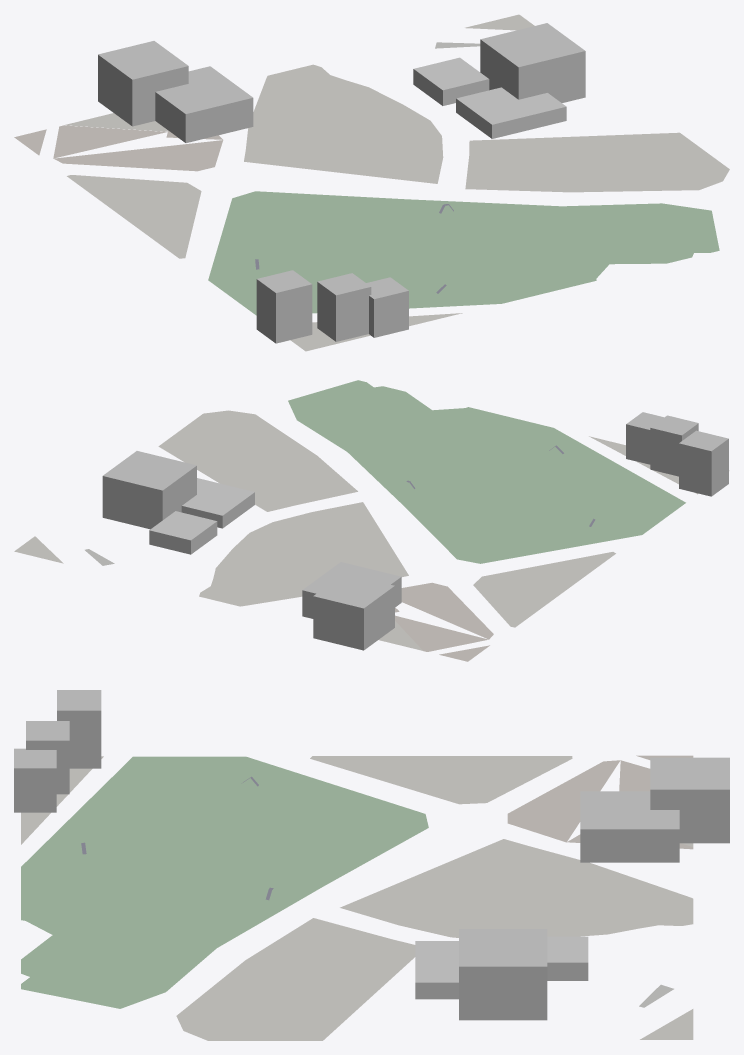
File: 105_91_mid.glb
The picture shows the model from 3 angles, top to bottom: view 1: azimuth 30°, elevation 25°; view 2: azimuth 150°, elevation 25°; view 3: azimuth 270°, elevation 25°; orthographic projection. The views are drawn at different scales.
Bounding box in the file's own units: 514 × 48.19 × 533.
